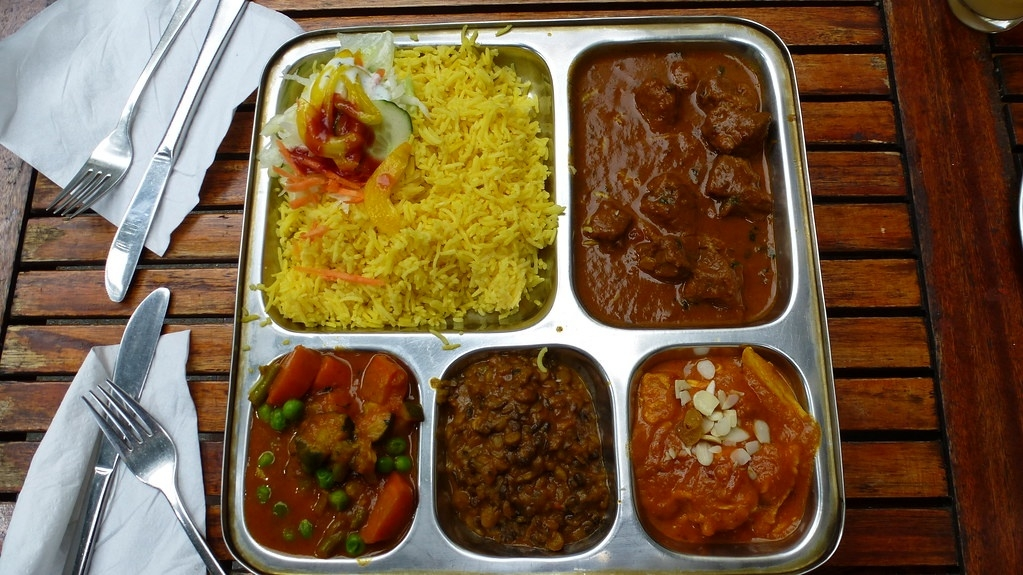bowl: (278, 47, 551, 347), (560, 36, 805, 342), (617, 346, 830, 566), (429, 332, 615, 575), (242, 332, 425, 567)
